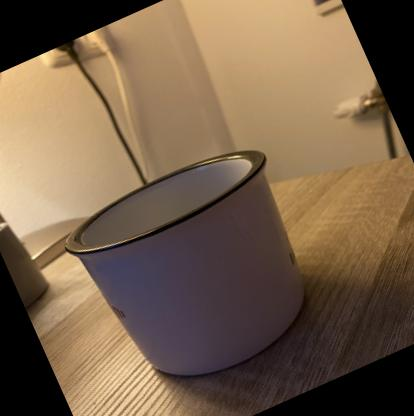Cup: (49, 128, 342, 414)
